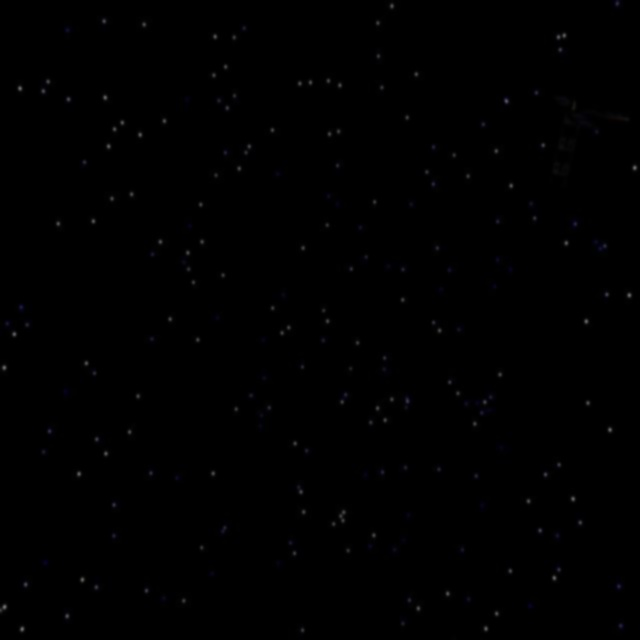medium_debris: (516, 67, 637, 221)
